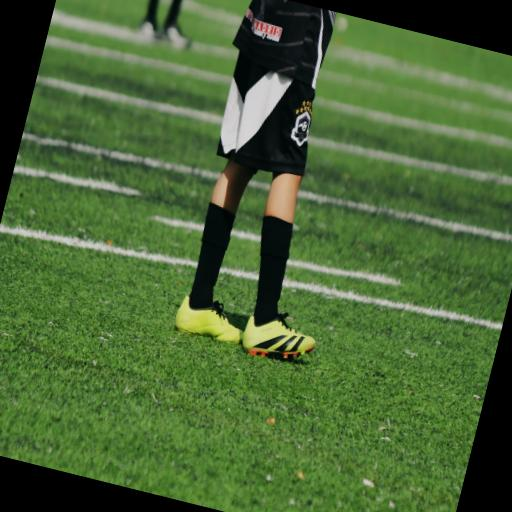shoe: (175, 296, 243, 344), (243, 314, 315, 357), (162, 24, 192, 49), (139, 19, 157, 38)
